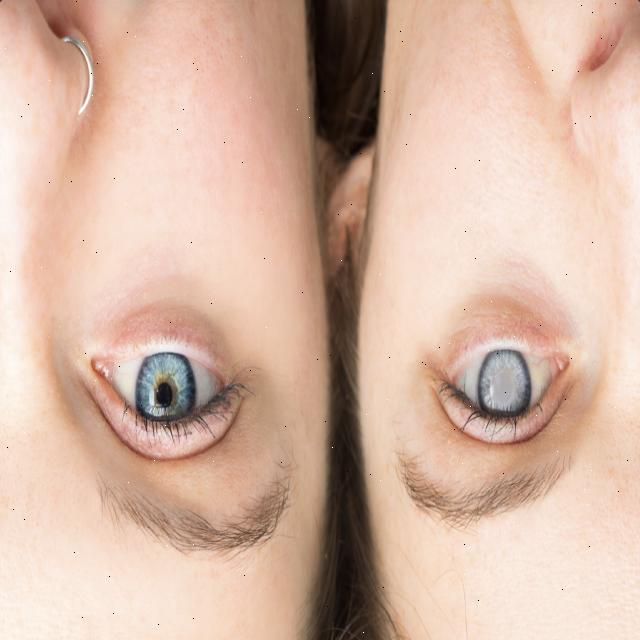Cataract: (478, 344, 532, 426)
Normal: (134, 350, 195, 436)
